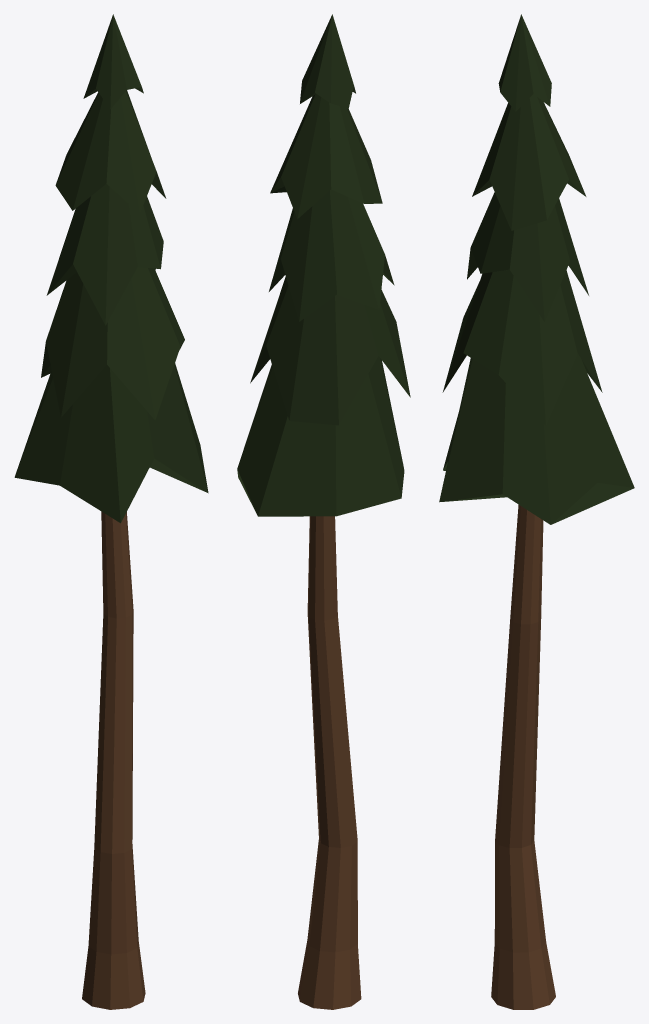
File: tree2.fbx
The picture shows the model from 3 angles, left to right: view 1: azimuth 30°, elevation 25°; view 2: azimuth 150°, elevation 25°; view 3: azimuth 270°, elevation 25°; orthographic projection.
Visible parts, largest first — view 1: TallPinetree; view 2: TallPinetree; view 3: TallPinetree.
Boxes of the visible parts, x1,y1,x2,y2 form: TallPinetree: (14, 14, 208, 1009); TallPinetree: (237, 14, 410, 1009); TallPinetree: (439, 14, 634, 1009).
Bounding box in the file's own units: 243 × 1393 × 252.
